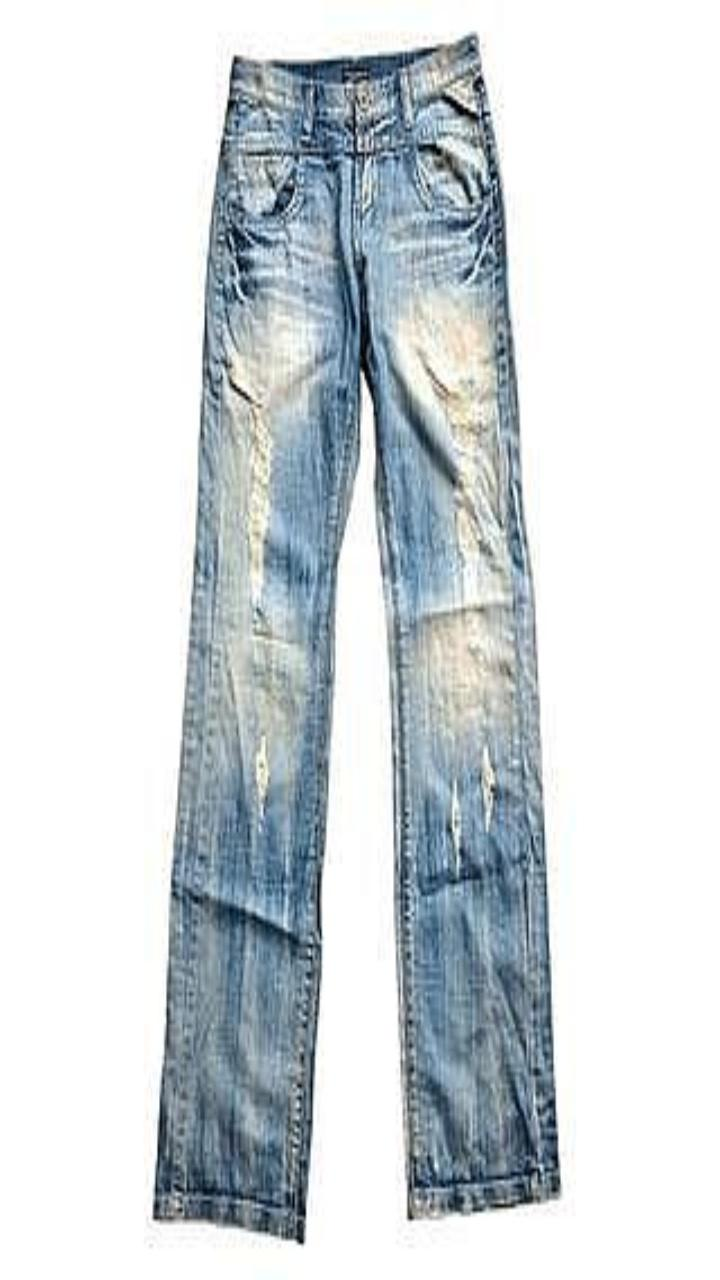Jeans: (154, 34, 559, 1240)
